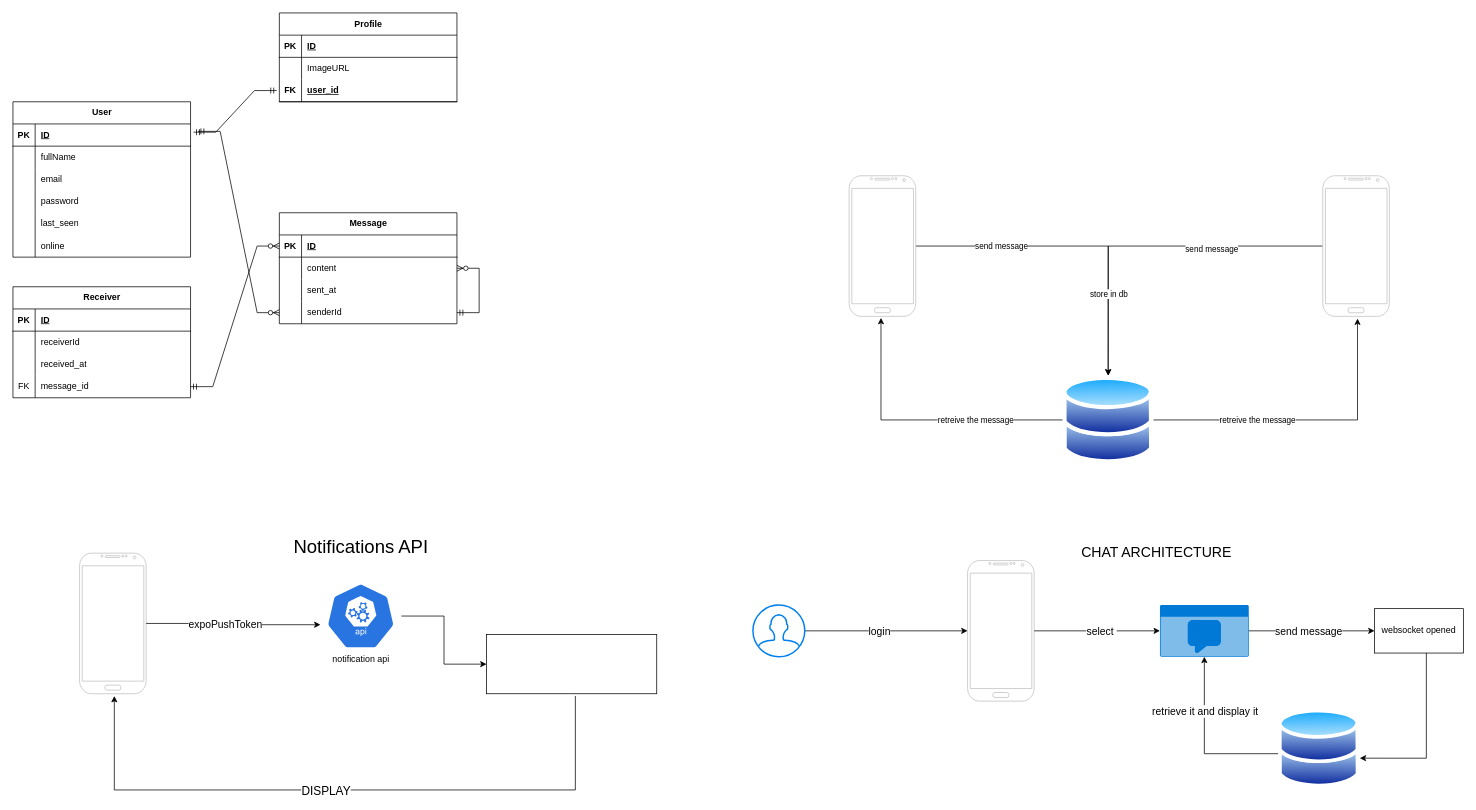
Image size: 1476x810. Some labels were removed from this diagram. Each missing label, with the centre of its shape:
"Chat" goes at pixel 1204 630.
"Notification" goes at pixel 571 664.
